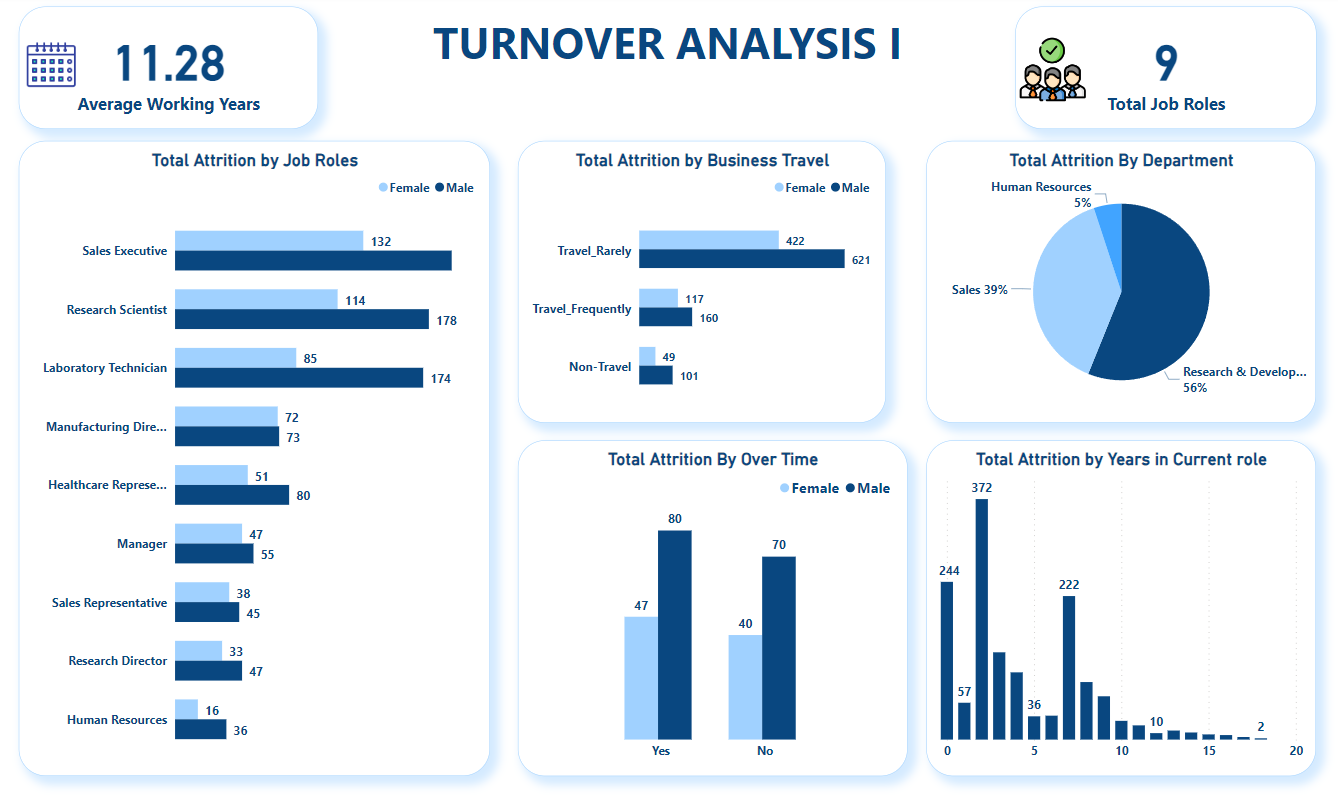

The page's visual inventory and layout, read from the dashboard file:
{"tool":"powerbi","page":{"name":"TURNOVER-1","canvas":[1500,900],"ordinal":2},"visuals":[{"type":"card","fields":{"Values":["Avg(HR-Employee-Attrition.TotalWorkingYears)"]},"box":[24,16.8,333.7,136.9],"z":0},{"type":"clusteredBarChart","title":"Total Attrition by Job Roles","fields":{"Y":["CountNonNull(HR-Employee-Attrition.Attrition)"],"Category":["HR-Employee-Attrition.JobRole"],"Series":["HR-Employee-Attrition.Gender"]},"box":[24,165.7,525.8,708.3],"z":1000},{"type":"card","fields":{"Values":["Count(HR-Employee-Attrition.JobRole)"]},"box":[1135.6,16.8,336.1,136.9],"z":2000},{"type":"pieChart","title":"Total Attrition By Department","fields":{"Y":["Sum(HR-Employee-Attrition.Attrition number)"],"Category":["HR-Employee-Attrition.Department"]},"box":[1037.2,165.7,434.6,314.5],"z":3000},{"type":"columnChart","title":"Total Attrition by Years in Current role","fields":{"Category":["HR-Employee-Attrition.YearsInCurrentRole"],"Y":["CountNonNull(HR-Employee-Attrition.Attrition)"]},"box":[1037.2,499.4,434.6,374.5],"z":4000},{"type":"clusteredBarChart","title":"Total Attrition by Business Travel","fields":{"Category":["HR-Employee-Attrition.BusinessTravel"],"Y":["CountNonNull(HR-Employee-Attrition.Attrition)"],"Series":["HR-Employee-Attrition.Gender"]},"box":[581,165.7,410.6,314.5],"z":5000},{"type":"textbox","box":[190.3,18.2,1115.6,147.8],"z":6000},{"type":"image","box":[24,38.4,72,81.6],"z":7000},{"type":"image","box":[1135.6,38.4,84,96],"z":8000},{"type":"clusteredColumnChart","title":"Total Attrition By Over Time","fields":{"Category":["HR-Employee-Attrition.OverTime"],"Y":["Sum(HR-Employee-Attrition.Attrition number)"],"Series":["HR-Employee-Attrition.Gender"]},"box":[581,499.4,434.6,374.5],"z":9000}]}

Visuals, with their boxes in screenshot pixels (x1, y1, x2, y2), scaled from the page's 1500x900 canvas onto the 1338x796 screenshot:
card - Avg(HR-Employee-Attrition.TotalWorkingYears): box(21, 15, 319, 136)
"Total Attrition by Job Roles" clusteredBarChart: box(21, 147, 490, 773)
card - Count(HR-Employee-Attrition.JobRole): box(1013, 15, 1313, 136)
"Total Attrition By Department" pieChart: box(925, 147, 1313, 425)
"Total Attrition by Years in Current role" columnChart: box(925, 442, 1313, 773)
"Total Attrition by Business Travel" clusteredBarChart: box(518, 147, 885, 425)
textbox: box(170, 16, 1165, 147)
image: box(21, 34, 86, 106)
image: box(1013, 34, 1088, 119)
"Total Attrition By Over Time" clusteredColumnChart: box(518, 442, 906, 773)
